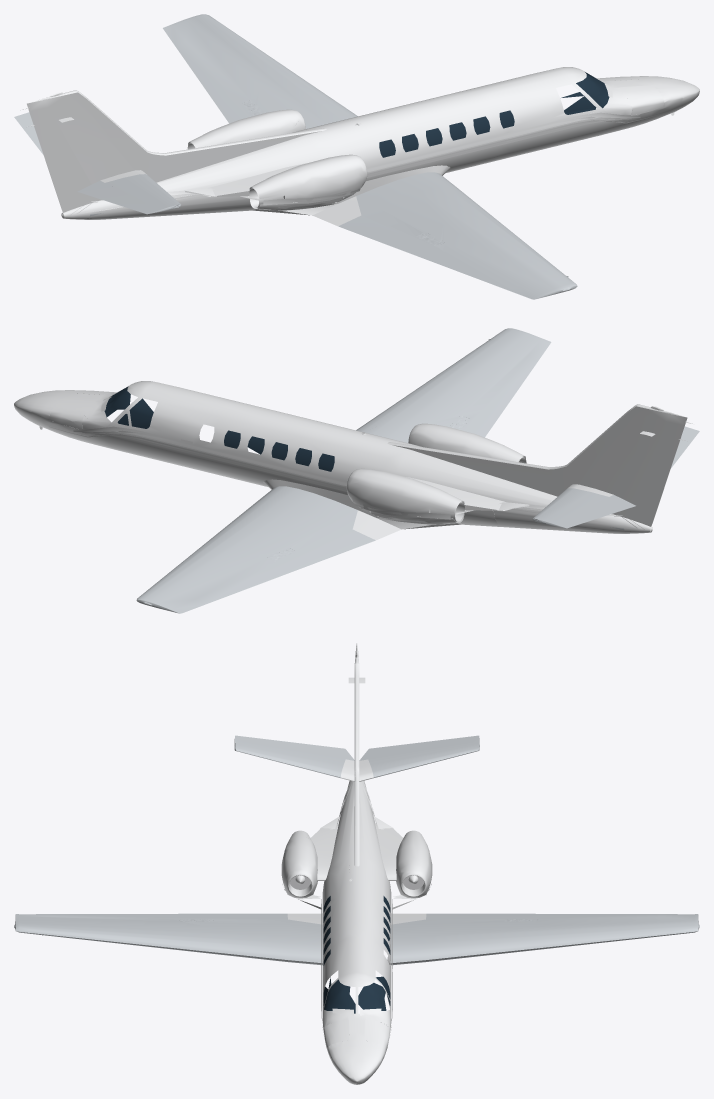
3 views of the same model, one above another, from view 1: azimuth 30°, elevation 25°; view 2: azimuth 150°, elevation 25°; view 3: azimuth 270°, elevation 25° (orthographic). The views are drawn at different scales.
Visible parts, largest first — view 1: hull, wing, tail, engine, glass, band-cheatline, band-tailcone-trim, band-belly-trim, band-cheatline-trim; view 2: hull, wing, tail, engine, glass, band-cheatline, band-tailcone-trim, band-belly-trim, band-cheatline-trim; view 3: wing, hull, engine, glass, tail.
Part boxes in pixels (x1=…): hull: x1=61, y1=67, x2=699, y2=226; wing: x1=14, y1=14, x2=577, y2=299; tail: x1=20, y1=90, x2=326, y2=208; engine: x1=187, y1=109, x2=367, y2=210; glass: x1=379, y1=72, x2=609, y2=157; band-cheatline: x1=82, y1=112, x2=640, y2=205; band-tailcone-trim: x1=185, y1=116, x2=631, y2=202; band-belly-trim: x1=69, y1=112, x2=664, y2=215; band-cheatline-trim: x1=76, y1=119, x2=633, y2=214; hull: x1=14, y1=381, x2=652, y2=540; wing: x1=136, y1=328, x2=699, y2=613; tail: x1=388, y1=404, x2=692, y2=522; engine: x1=346, y1=423, x2=526, y2=524; glass: x1=104, y1=386, x2=334, y2=471; band-cheatline: x1=73, y1=426, x2=631, y2=519; band-tailcone-trim: x1=82, y1=430, x2=529, y2=518; band-belly-trim: x1=49, y1=426, x2=644, y2=529; band-cheatline-trim: x1=81, y1=433, x2=637, y2=528; wing: x1=14, y1=735, x2=699, y2=965; hull: x1=287, y1=780, x2=426, y2=1084; engine: x1=281, y1=830, x2=432, y2=898; glass: x1=323, y1=896, x2=390, y2=1013; tail: x1=340, y1=643, x2=373, y2=865.
Size of the model in its own units: 16.3 by 4.03 by 15.5.
